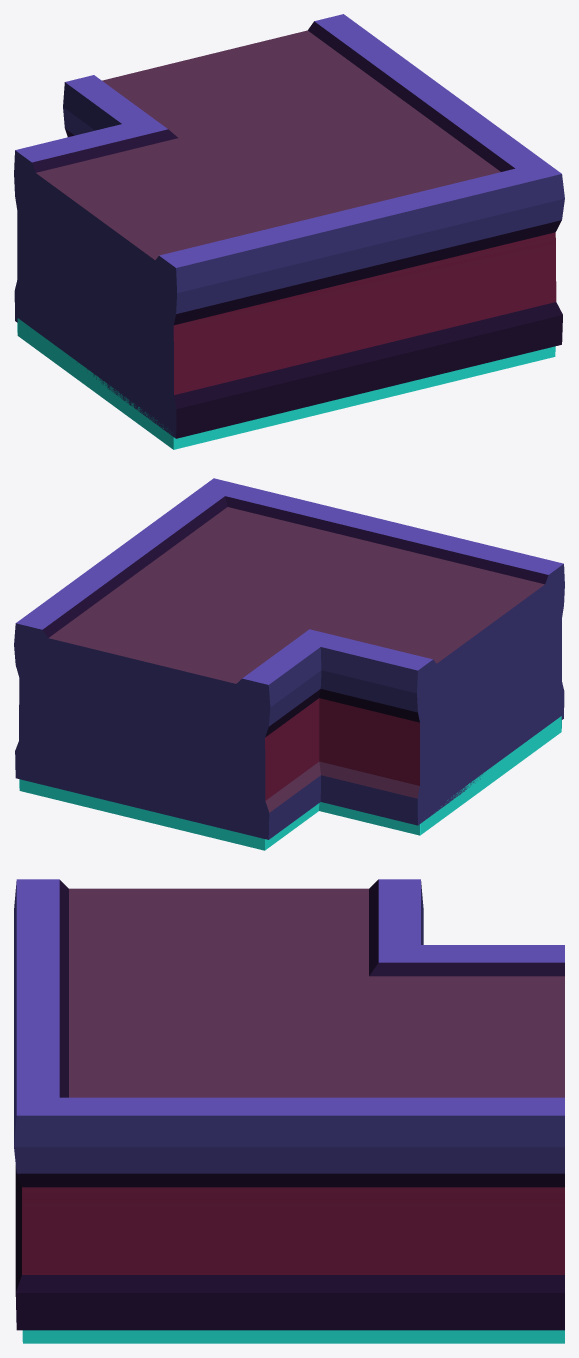
The model's file is barra_03.FBX.
3 views of the same model, one above another, from view 1: azimuth 30°, elevation 25°; view 2: azimuth 150°, elevation 25°; view 3: azimuth 270°, elevation 25° (orthographic). The views are drawn at different scales.
Visible parts, largest first — view 1: Cylinder008; view 2: Cylinder008; view 3: Cylinder008.
Boxes of the visible parts, x1=… form: Cylinder008: x1=14, y1=14, x2=564, y2=449; Cylinder008: x1=14, y1=478, x2=564, y2=850; Cylinder008: x1=14, y1=879, x2=564, y2=1343.
Bounding box in the file's own units: 48.18 × 21.81 × 47.21.
